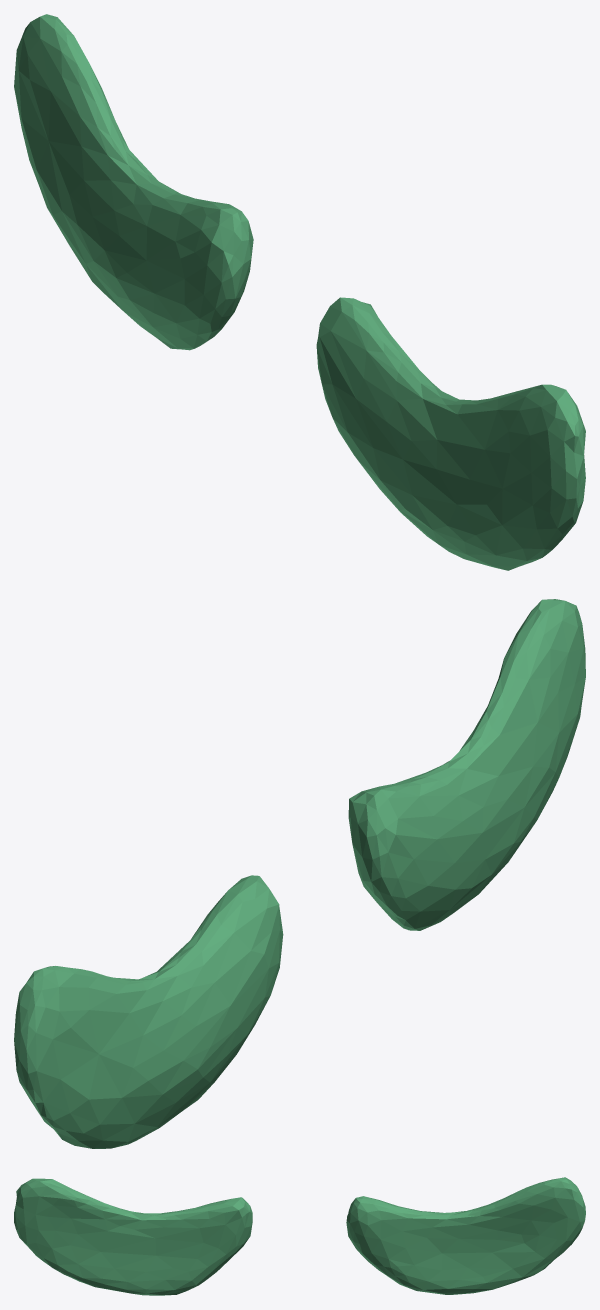
The picture shows the model from 3 angles, top to bottom: view 1: azimuth 30°, elevation 25°; view 2: azimuth 150°, elevation 25°; view 3: azimuth 270°, elevation 25°; orthographic projection. The views are drawn at different scales.
Parts seen in each view (by area): view 1: 68.obj; view 2: 68.obj; view 3: 68.obj.
Part boxes in pixels (x1,y1,x2,y2): 68.obj: (14, 14, 585, 570); 68.obj: (14, 599, 585, 1148); 68.obj: (14, 1177, 585, 1295).
Bounding box in the file's own units: 230 × 824 × 3569.
